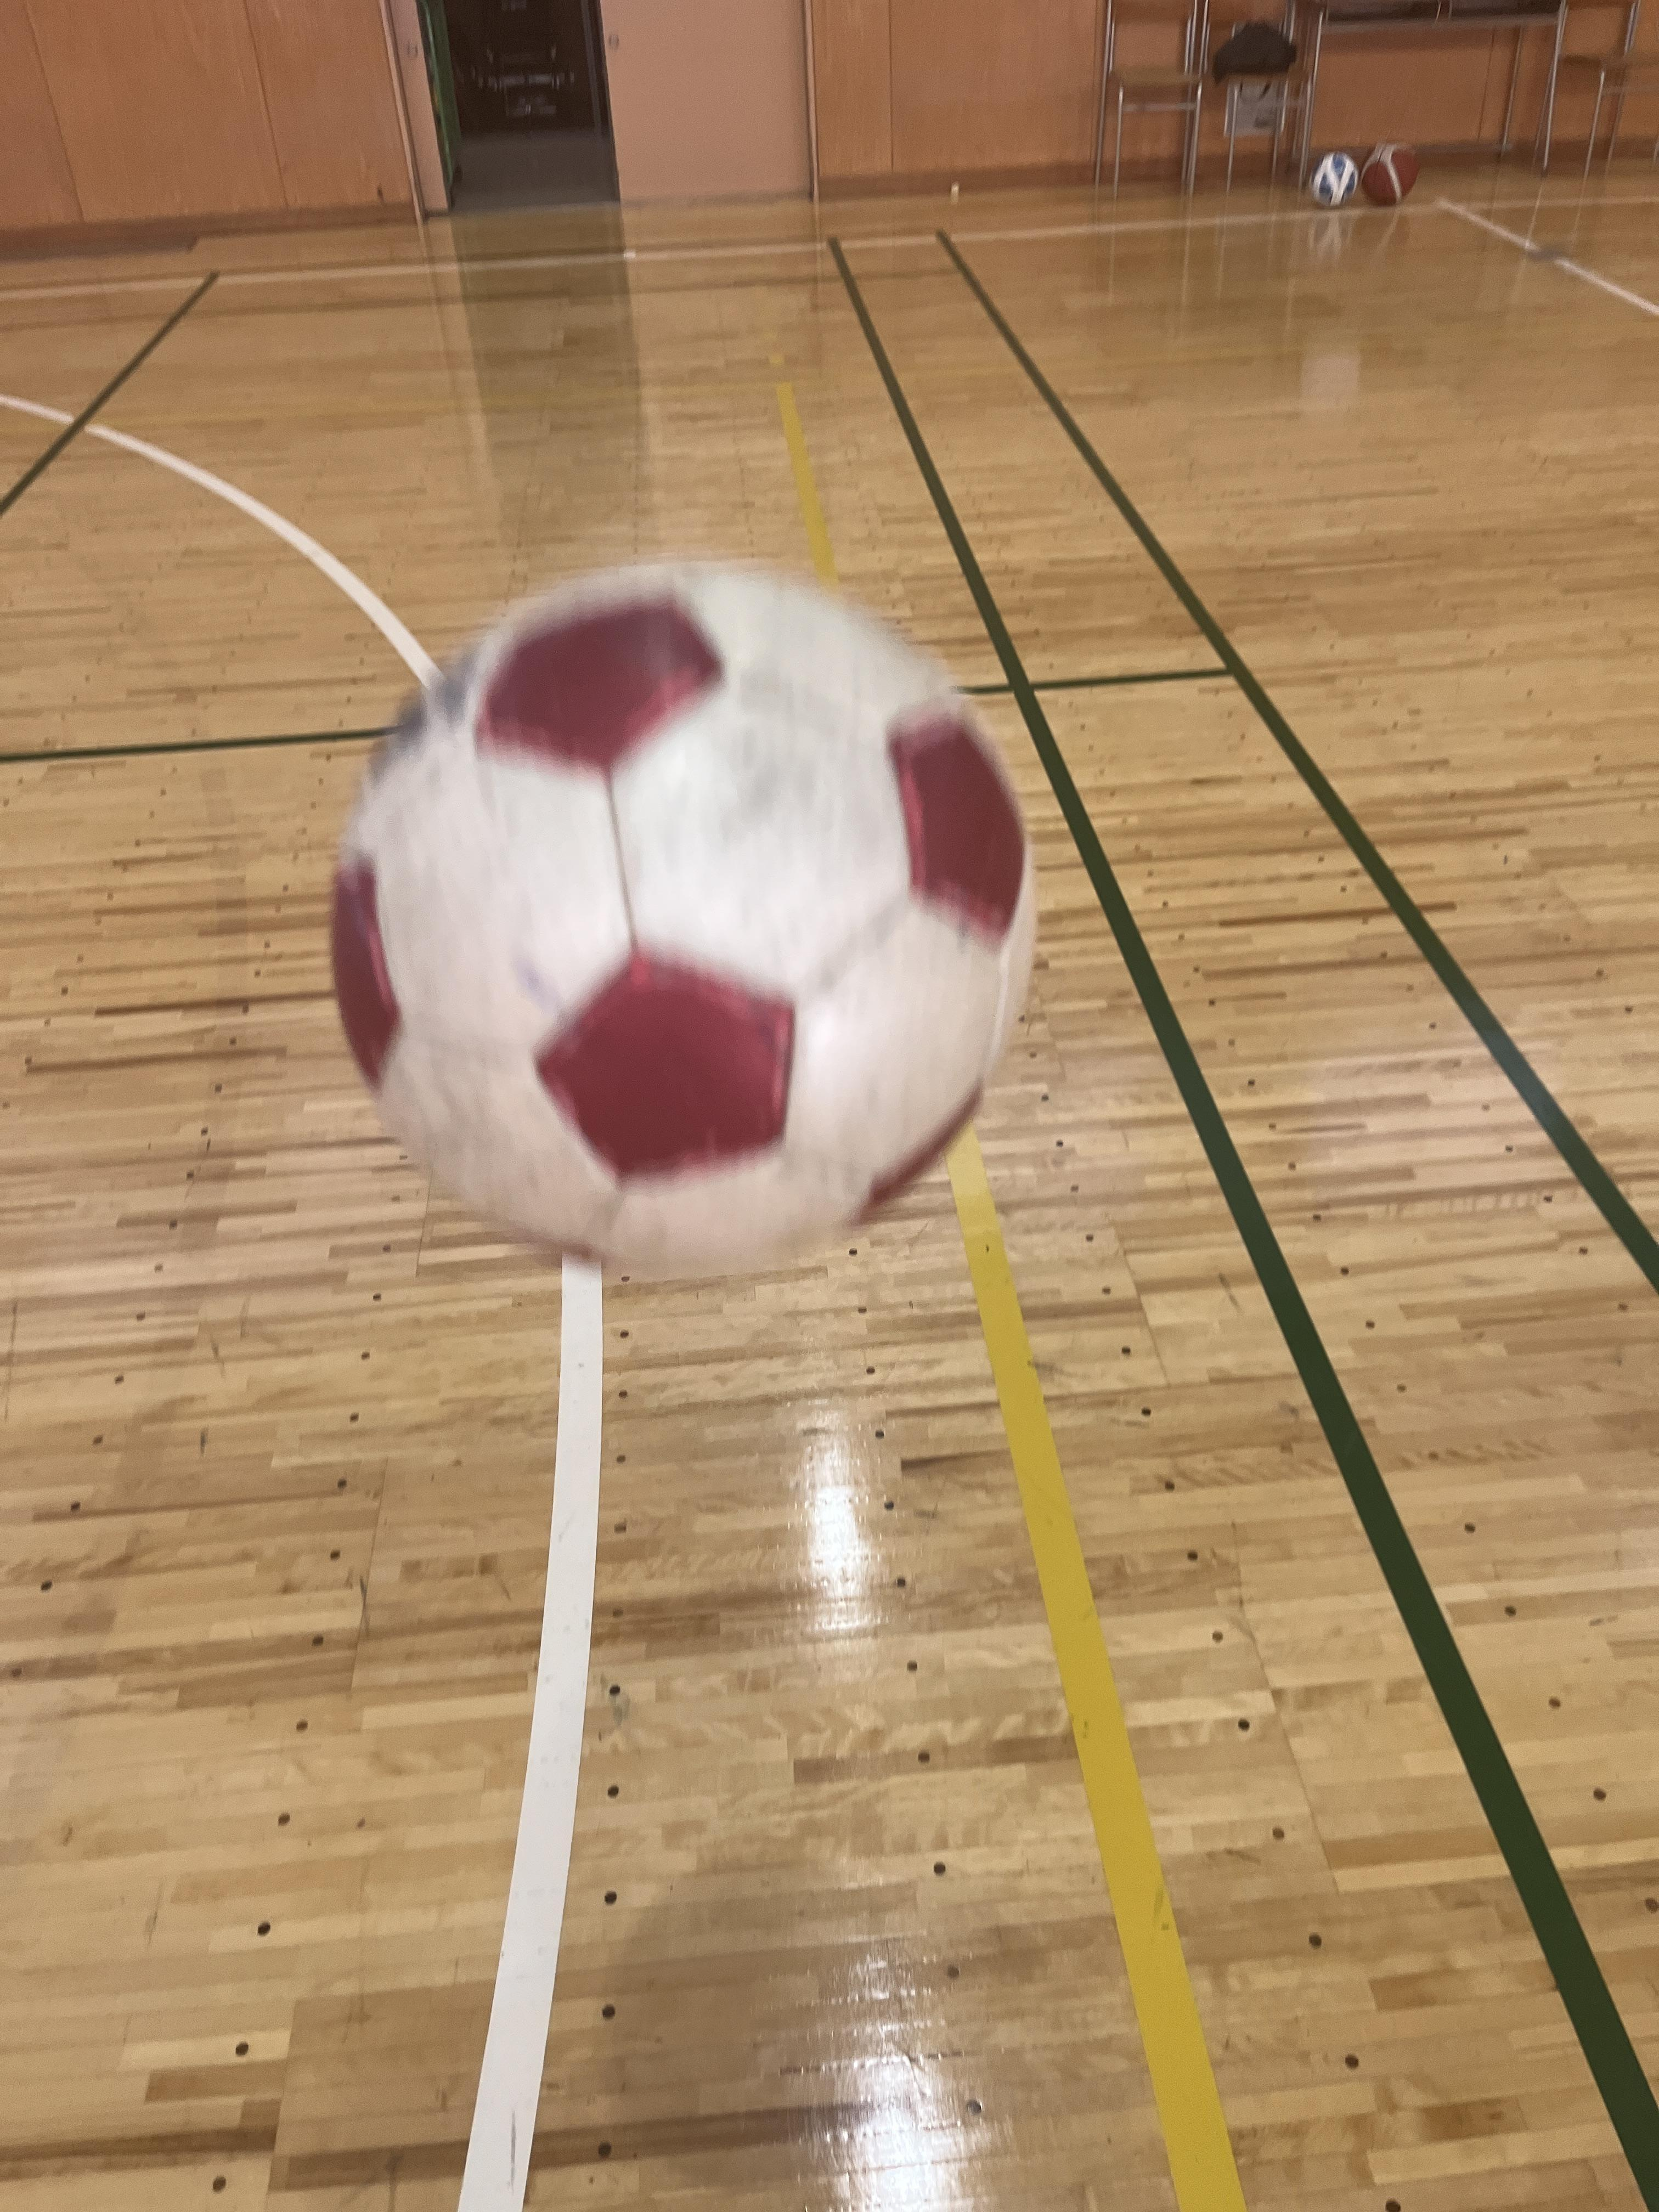Sports-Ball: (319, 549, 1042, 1292)
